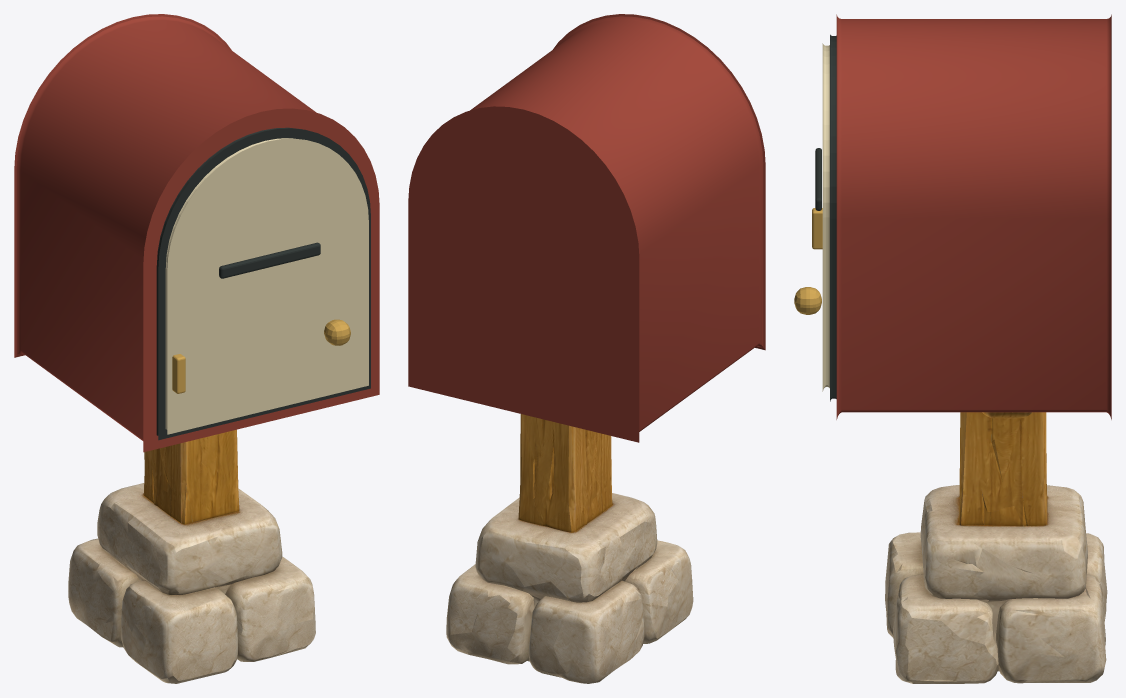
3 renders of one model, left to right at view 1: azimuth 30°, elevation 25°; view 2: azimuth 150°, elevation 25°; view 3: azimuth 270°, elevation 25°, orthographic. The views are drawn at different scales.
Visible parts, largest first — view 1: mailbox-housing.001, single-ivory-door.001, island-mailbox-v1-1.004, single-front-door-seam.001, single-mail-slot.001, single-brass-knob.001; view 2: mailbox-housing.001, island-mailbox-v1-1.004; view 3: mailbox-housing.001, island-mailbox-v1-1.004, single-ivory-door.001, single-front-door-seam.001, single-brass-knob.001.
Part boxes in pixels (<box>): mailbox-housing.001: <box>14,14,379,452</box>; single-ivory-door.001: <box>165,138,368,434</box>; island-mailbox-v1-1.004: <box>68,429,315,683</box>; single-front-door-seam.001: <box>156,127,370,440</box>; single-mail-slot.001: <box>219,242,320,278</box>; single-brass-knob.001: <box>324,319,350,345</box>; mailbox-housing.001: <box>408,14,765,442</box>; island-mailbox-v1-1.004: <box>446,414,693,683</box>; mailbox-housing.001: <box>836,14,1111,419</box>; island-mailbox-v1-1.004: <box>885,412,1107,683</box>; single-ivory-door.001: <box>822,43,829,391</box>; single-front-door-seam.001: <box>830,34,836,401</box>; single-brass-knob.001: <box>794,287,821,314</box>.
Size of the model in its own units: 0.518 by 1.21 by 0.5655.
5 materials, 1 textured.
